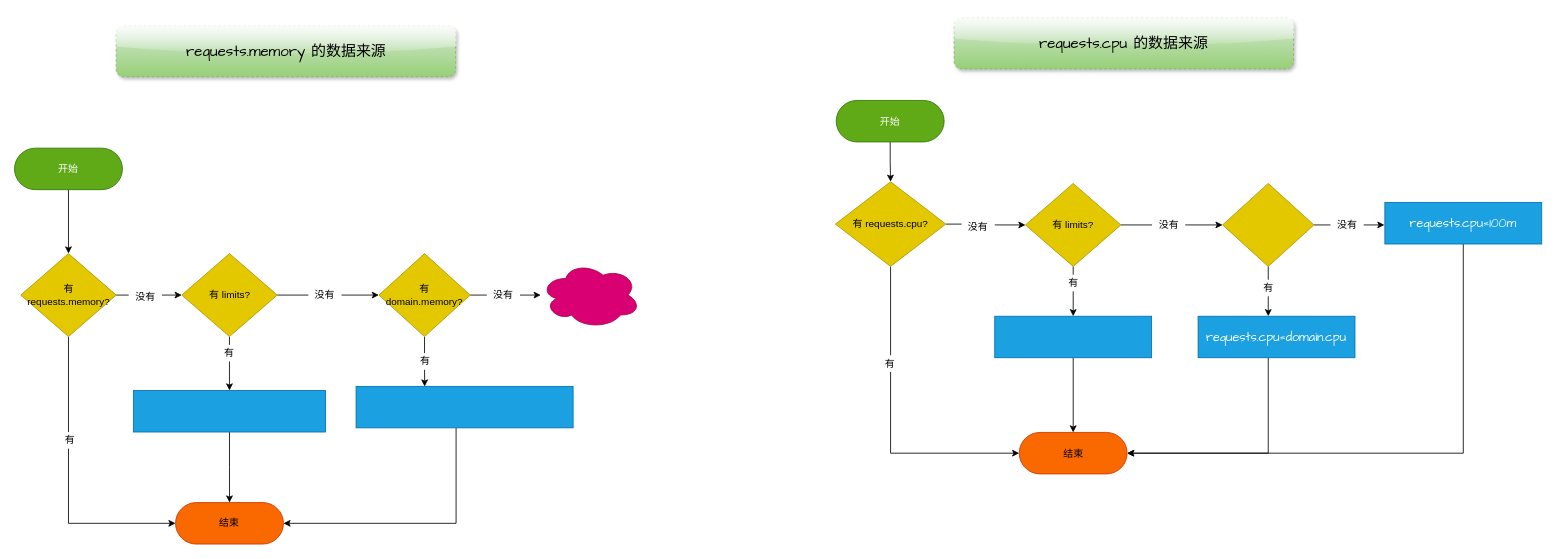
The diagram is 1556 pixels wide and 559 high, and some of its shapes have lost their labels. The centre of each missing label's shape, as x and y in pixels:
requests.cpu=limits.cpu: (1073,336)
requests.memory=domain.memory: (464,407)
requests.memory=limits.memory: (229,411)
报错: (590,294)
有 domain.cpu?: (1268,224)
